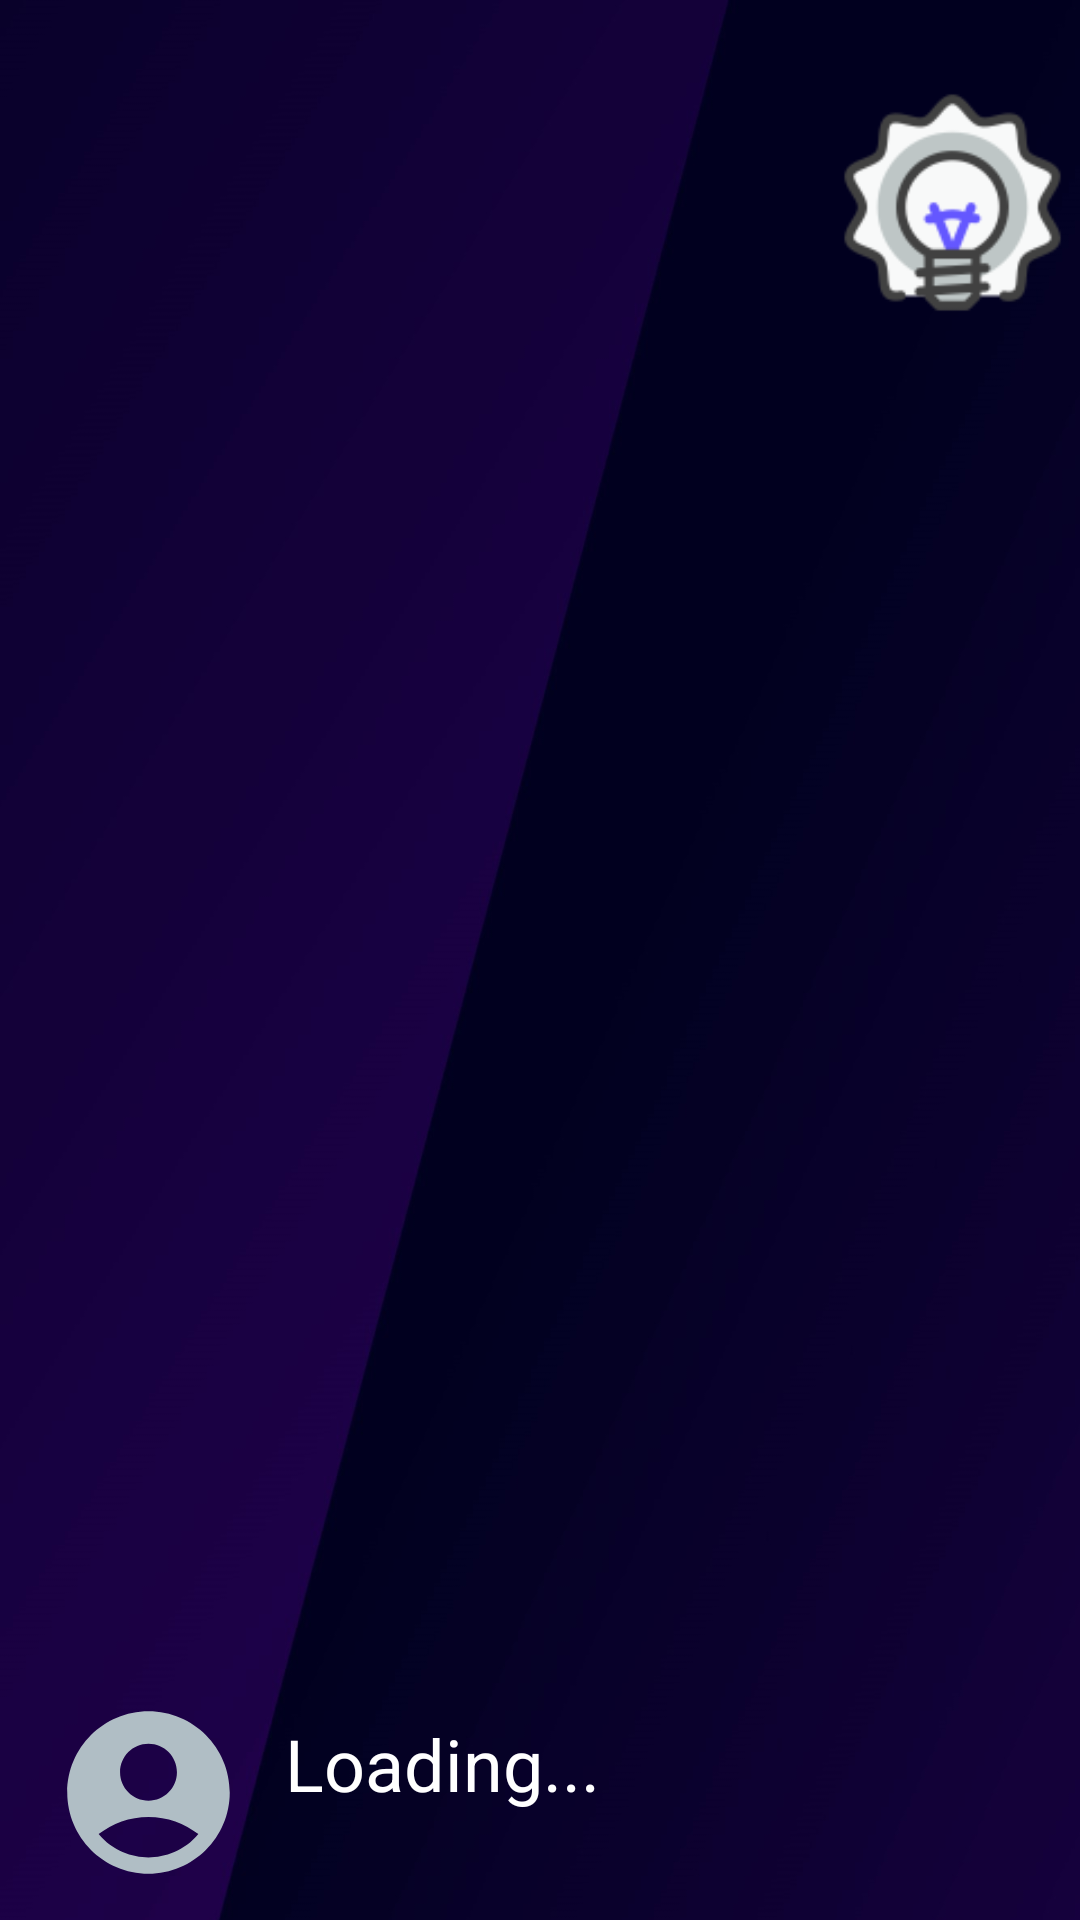

Icons on this 1080×1920 Android screen, each with its box as (x1=x1, y1=y1, x2=x2, y2=y2):
roundpfp: (x1=67, y1=1711, x2=230, y2=1874)
